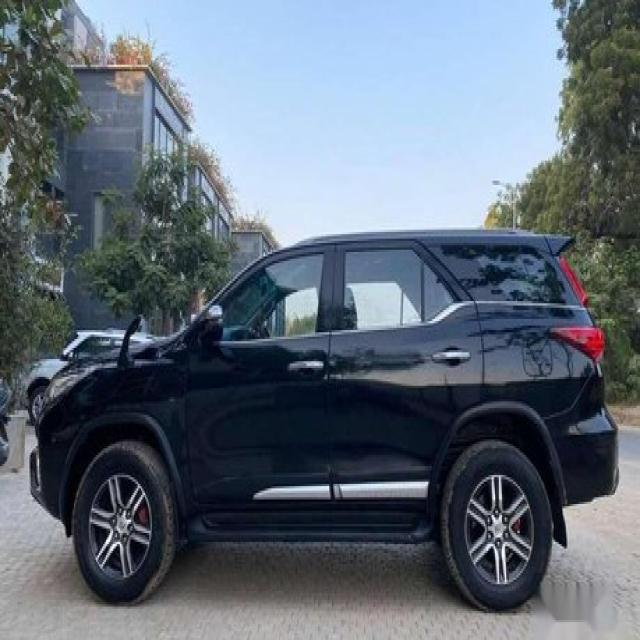light_vehicle: (31, 228, 620, 614)
